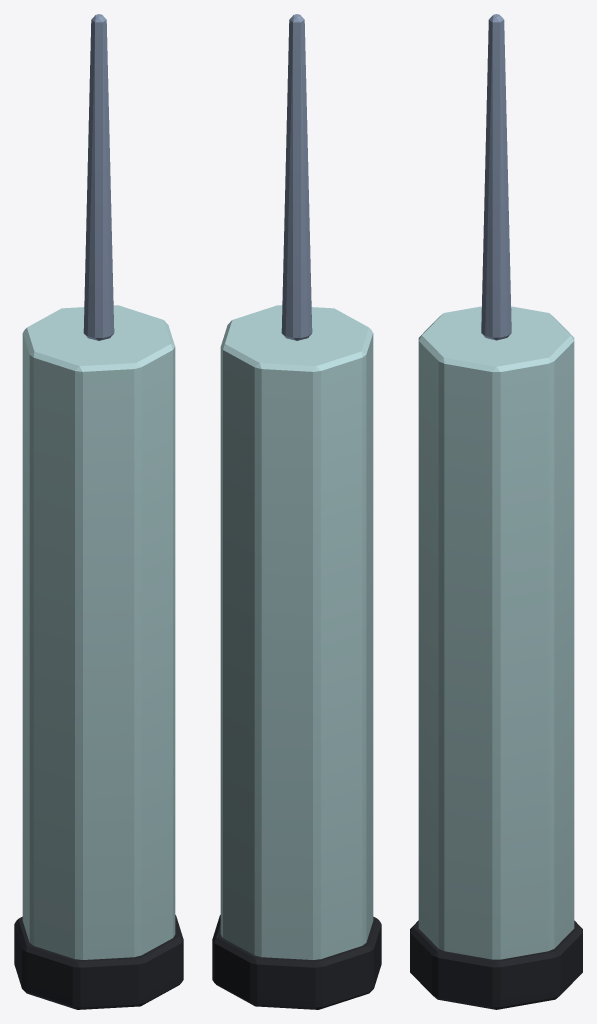
The model's file is syringe.glb.
3 views of the same model, side by side, from view 1: azimuth 30°, elevation 25°; view 2: azimuth 150°, elevation 25°; view 3: azimuth 270°, elevation 25° (orthographic).
Parts seen in each view (by area): view 1: syringe; view 2: syringe; view 3: syringe.
Part boxes in pixels (x1,y1,x2,y2): syringe: (14,14,183,1009); syringe: (212,14,381,1009); syringe: (410,14,582,1009).
Size of the model in its own units: 0.0392 by 0.24 by 0.0392.
1 material, 1 textured.
